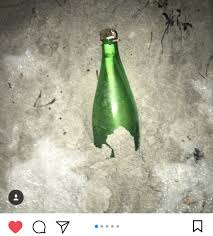bottle: (80, 21, 151, 158)
